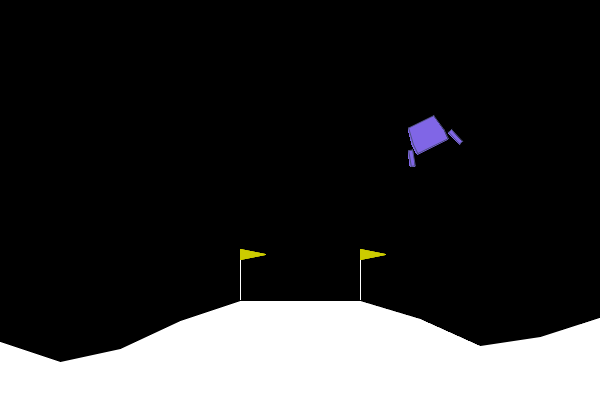lander: (393, 107, 464, 170)
